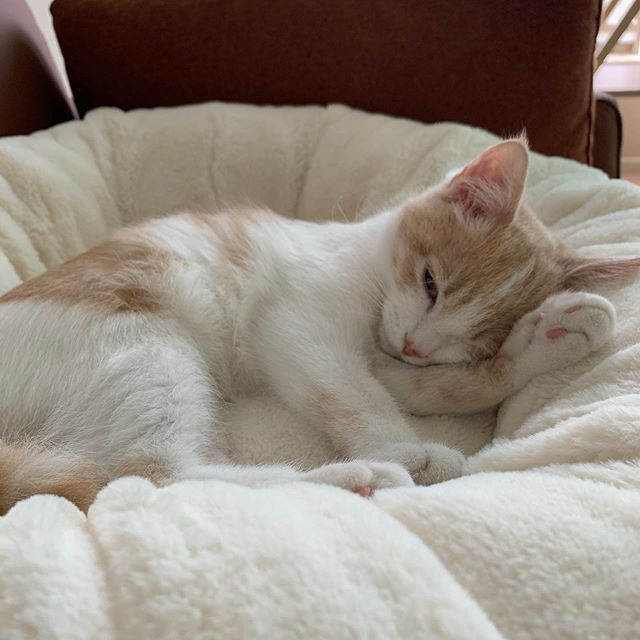cat: (367, 138, 640, 379)
